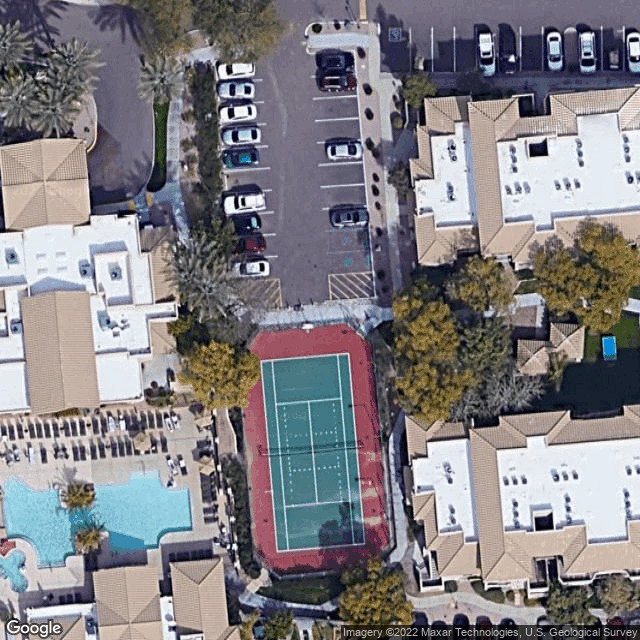Court: (259, 352, 367, 553)
